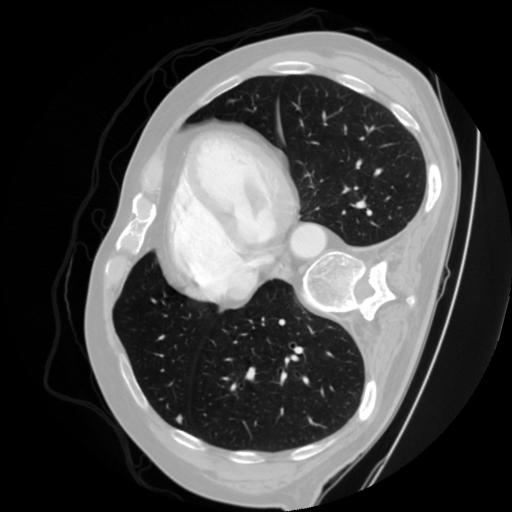nodule: (170, 412, 187, 429)
